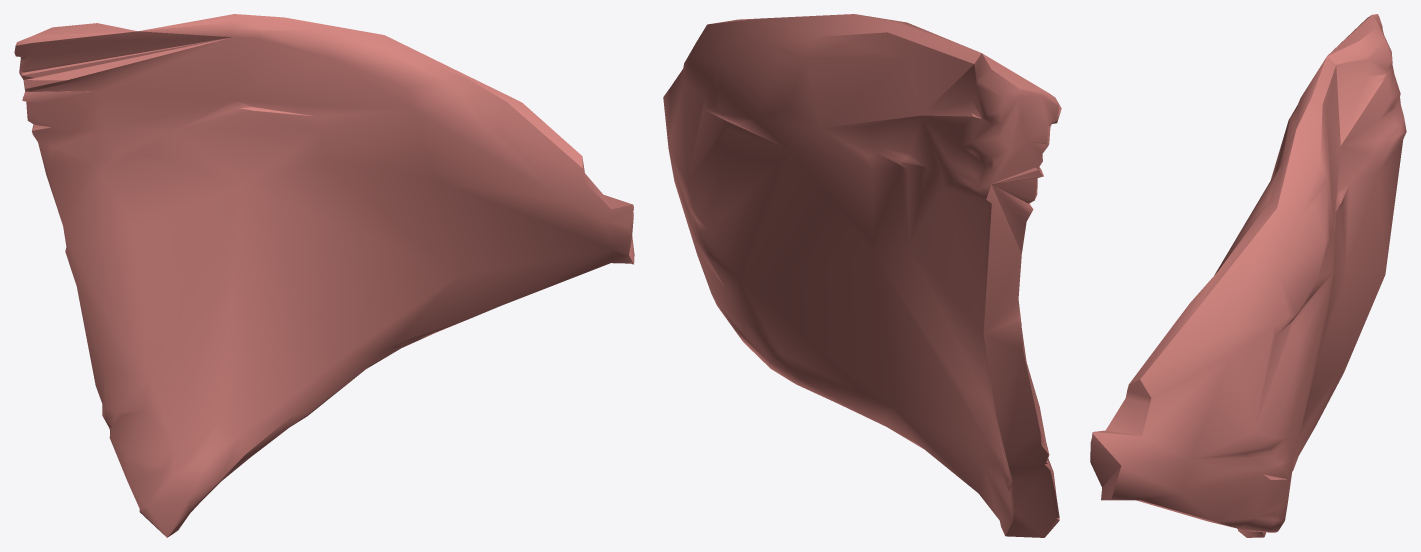
File: fma46124_fj1515m.glb
3 renders of one model, left to right at view 1: azimuth 30°, elevation 25°; view 2: azimuth 150°, elevation 25°; view 3: azimuth 270°, elevation 25°, orthographic. The views are drawn at different scales.
Visible parts, largest first — view 1: FMA46124_FJ1515M; view 2: FMA46124_FJ1515M; view 3: FMA46124_FJ1515M.
Boxes of the visible parts, box(x1,y1,x2,y2) form: FMA46124_FJ1515M: box(14, 14, 634, 537); FMA46124_FJ1515M: box(663, 14, 1061, 537); FMA46124_FJ1515M: box(1090, 14, 1406, 537).
Bounding box in the file's own units: 0.0411 × 0.0381 × 0.0225.
